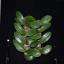leaf: (12, 40, 26, 52), (14, 32, 26, 44), (14, 22, 26, 34), (40, 32, 52, 44), (16, 11, 26, 24), (39, 22, 52, 32), (26, 50, 41, 58), (39, 15, 52, 24), (26, 21, 41, 28), (40, 46, 52, 54), (26, 28, 38, 36), (26, 33, 41, 39), (14, 18, 26, 25), (26, 37, 40, 43), (25, 53, 35, 61), (29, 40, 39, 47), (24, 16, 37, 21), (30, 29, 40, 34)
